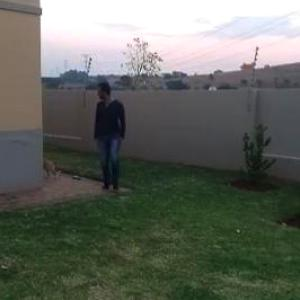follow: (90, 78, 130, 198)
